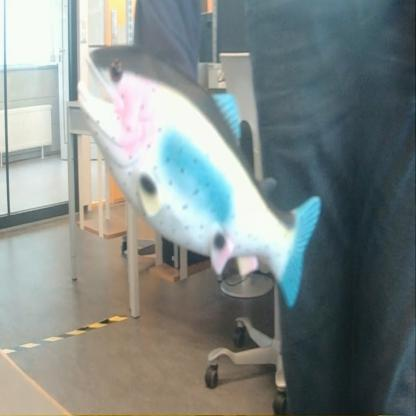rubberfish: (73, 32, 324, 317)
